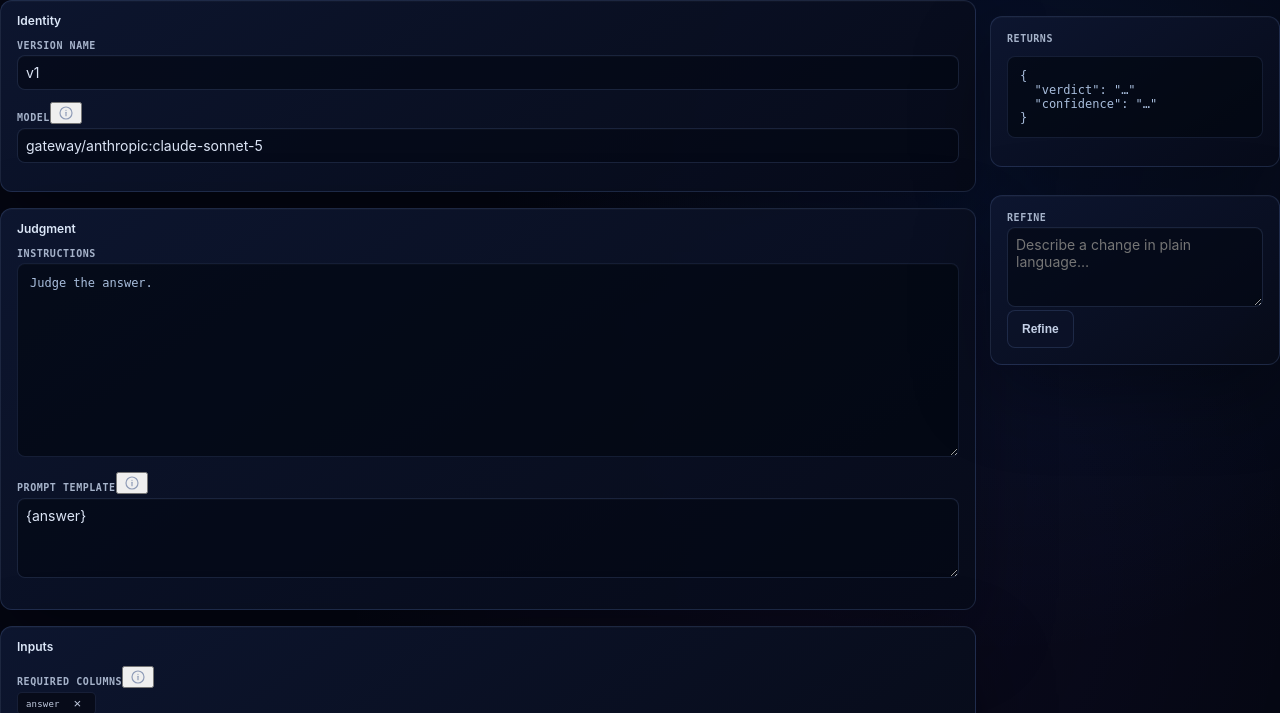
Test case: VersionEditor: inline validation › disables Save and shows an inline error when an existing version is edited into an invalid state
Clear the field labelled "Version name" at [488, 72], box [17,55,959,90]
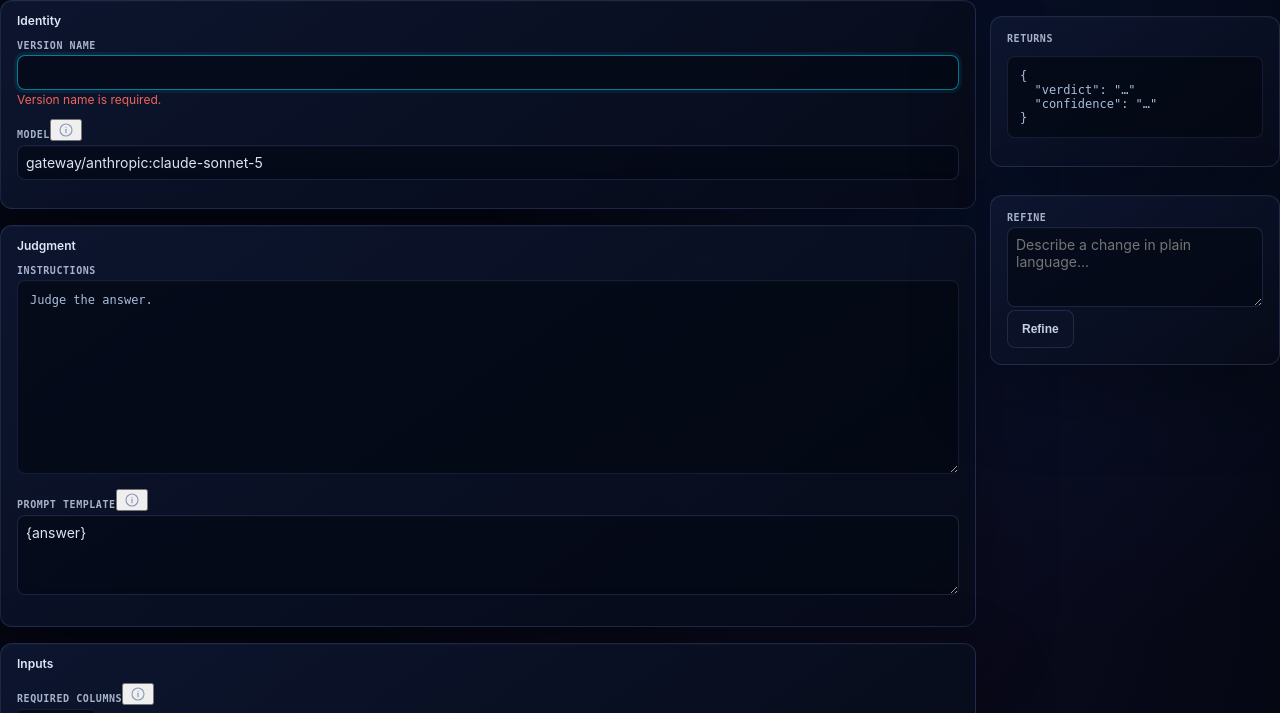
Expected: the message "Version name is required." is shown, [17,92,161,107]
